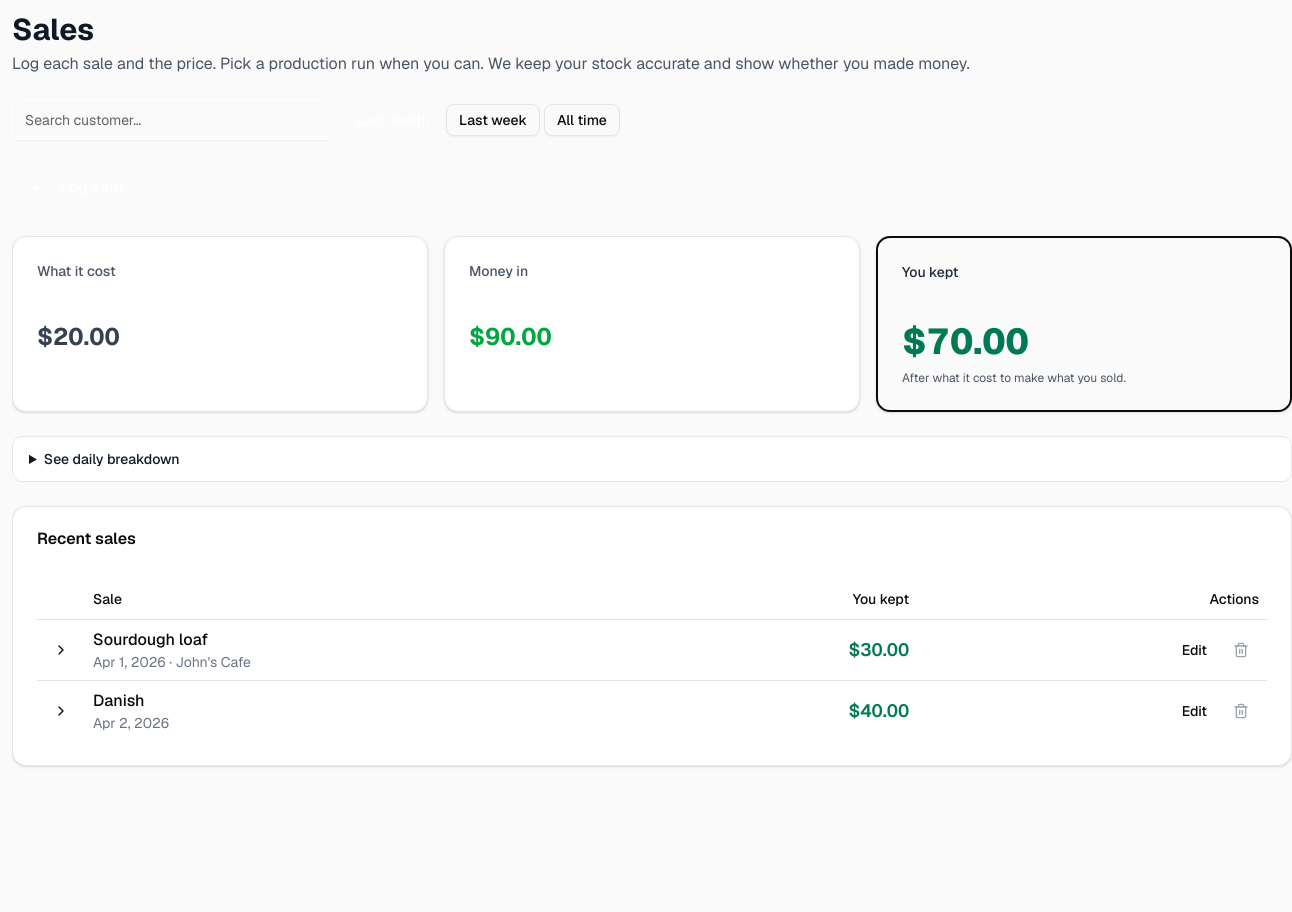
Test: SalesPage › displays sales from Supabase
Expected: the text "Sourdough loaf" is shown, top-left (93, 628), bottom-right (208, 650)
// Expand second sale (Danish / Walk-in) to see customer in details row
Click the button named "show sale details" next to "Danish" at [61, 710], box top-left (45, 694), bottom-right (77, 726)
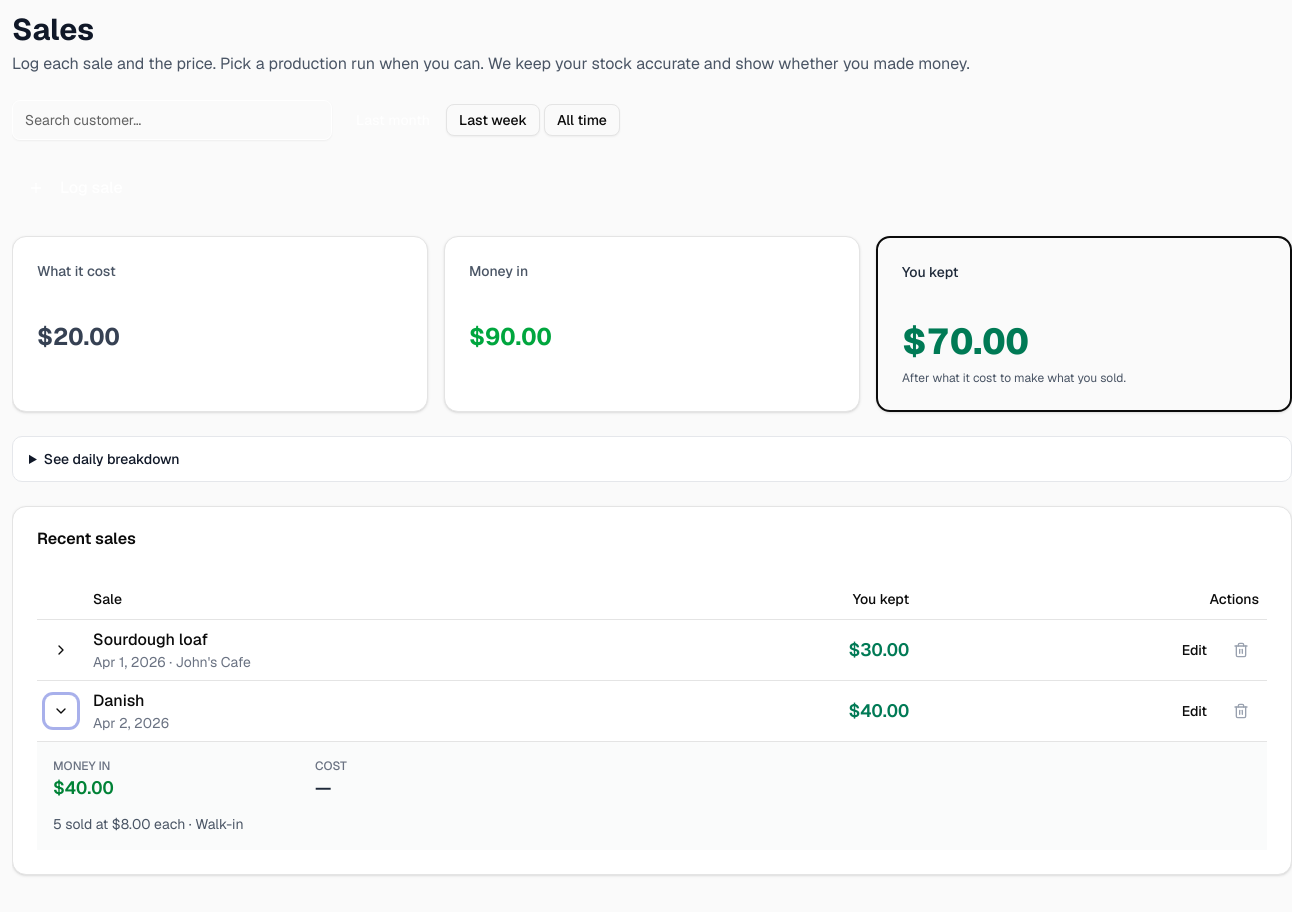
Now the text "5 sold at $8.00 each · Walk-in" is shown, box top-left (53, 814), bottom-right (244, 832)
